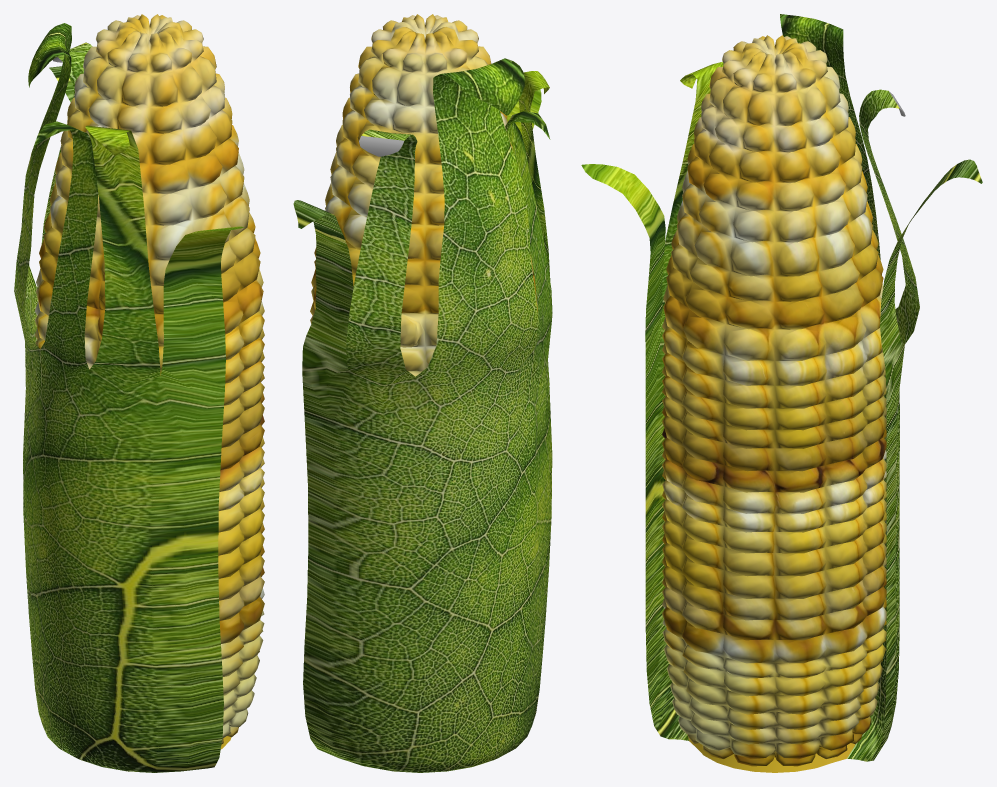
The model's file is Corn_with_Ear 1.fbx.
3 views of the same model, side by side, from view 1: azimuth 30°, elevation 25°; view 2: azimuth 150°, elevation 25°; view 3: azimuth 270°, elevation 25° (orthographic).
Visible parts, largest first — view 1: pCylinder19; view 2: pCylinder19; view 3: pCylinder19.
Part boxes in pixels (box(x1,y1,x2,y2)): pCylinder19: box(14, 14, 264, 772); pCylinder19: box(293, 14, 552, 772); pCylinder19: box(581, 14, 982, 772).
Size of the model in its own units: 2.75 by 8.43 by 4.43.
